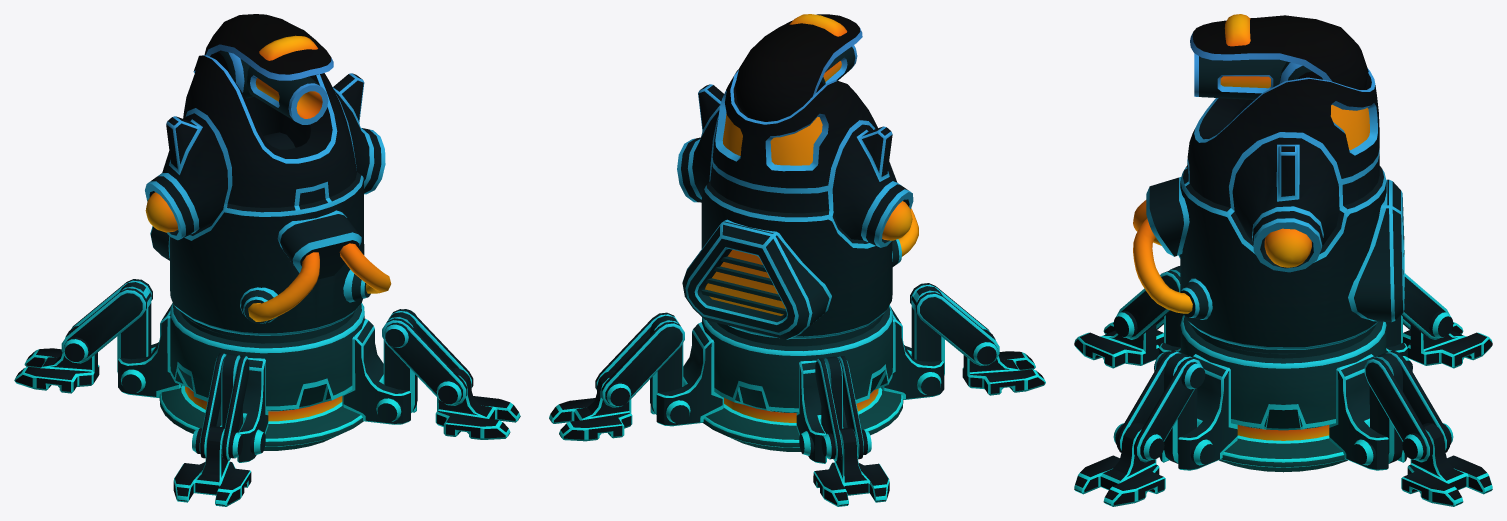
Rendered from Mesh_Tower_01.fbx.
The picture shows the model from 3 angles, left to right: view 1: azimuth 30°, elevation 25°; view 2: azimuth 150°, elevation 25°; view 3: azimuth 270°, elevation 25°; orthographic projection. The views are drawn at different scales.
Visible parts, largest first — view 1: Cylinder, Cylinder.006, Cylinder.002, Plane.003, Cube.003, Cube.018, Cube.011, Cube.012, Vert, Cube.006, Cube.007, Cube.009 (+7 smaller); view 2: Cylinder, Cylinder.006, Cube.013, Cylinder.002, Cube.002, Plane.001, Cube.007, Cube.004, Cube.009, Cube.018, Cube.006, Plane.004 (+6 smaller); view 3: Cylinder, Cylinder.006, Cylinder.002, Cube.013, Cube.002, Plane.001, Plane.003, Cube.012, Cube.004, Cube.011, Cube.003, Cube.007 (+16 smaller).
Part boxes in pixels (x1=…): Cylinder: x1=145, y1=55, x2=385, y2=339; Cylinder.006: x1=159, y1=303, x2=364, y2=450; Cylinder.002: x1=204, y1=14, x2=333, y2=124; Plane.003: x1=342, y1=318, x2=416, y2=424; Cube.003: x1=277, y1=210, x2=361, y2=279; Cube.018: x1=173, y1=426, x2=251, y2=506; Cube.011: x1=382, y1=309, x2=473, y2=405; Cube.012: x1=435, y1=367, x2=520, y2=439; Vert: x1=248, y1=243, x2=391, y2=321; Cube.006: x1=61, y1=279, x2=152, y2=363; Cube.007: x1=14, y1=326, x2=99, y2=393; Cube.009: x1=199, y1=353, x2=249, y2=460; Cylinder: x1=677, y1=68, x2=913, y2=342; Cylinder.006: x1=702, y1=305, x2=903, y2=451; Cube.013: x1=682, y1=219, x2=831, y2=339; Cylinder.002: x1=735, y1=14, x2=862, y2=121; Cube.002: x1=595, y1=312, x2=684, y2=407; Plane.001: x1=650, y1=322, x2=723, y2=426; Cube.007: x1=813, y1=427, x2=889, y2=506; Cube.004: x1=549, y1=370, x2=632, y2=441; Cube.009: x1=910, y1=283, x2=999, y2=365; Cube.018: x1=962, y1=329, x2=1045, y2=395; Cube.006: x1=815, y1=356, x2=863, y2=461; Plane.004: x1=881, y1=307, x2=944, y2=399; Cylinder: x1=1180, y1=68, x2=1386, y2=353; Cylinder.006: x1=1180, y1=315, x2=1386, y2=472; Cylinder.002: x1=1190, y1=14, x2=1368, y2=99; Cube.013: x1=1348, y1=179, x2=1404, y2=322; Cube.002: x1=1364, y1=350, x2=1449, y2=462; Plane.001: x1=1329, y1=354, x2=1407, y2=470; Plane.003: x1=1159, y1=354, x2=1237, y2=470; Cube.012: x1=1074, y1=423, x2=1165, y2=506; Cube.004: x1=1401, y1=423, x2=1492, y2=506; Cube.011: x1=1117, y1=350, x2=1200, y2=462; Cube.003: x1=1146, y1=177, x2=1189, y2=256; Cube.007: x1=1403, y1=322, x2=1492, y2=368.
Bounding box in the file's own units: 178 × 195 × 178.
